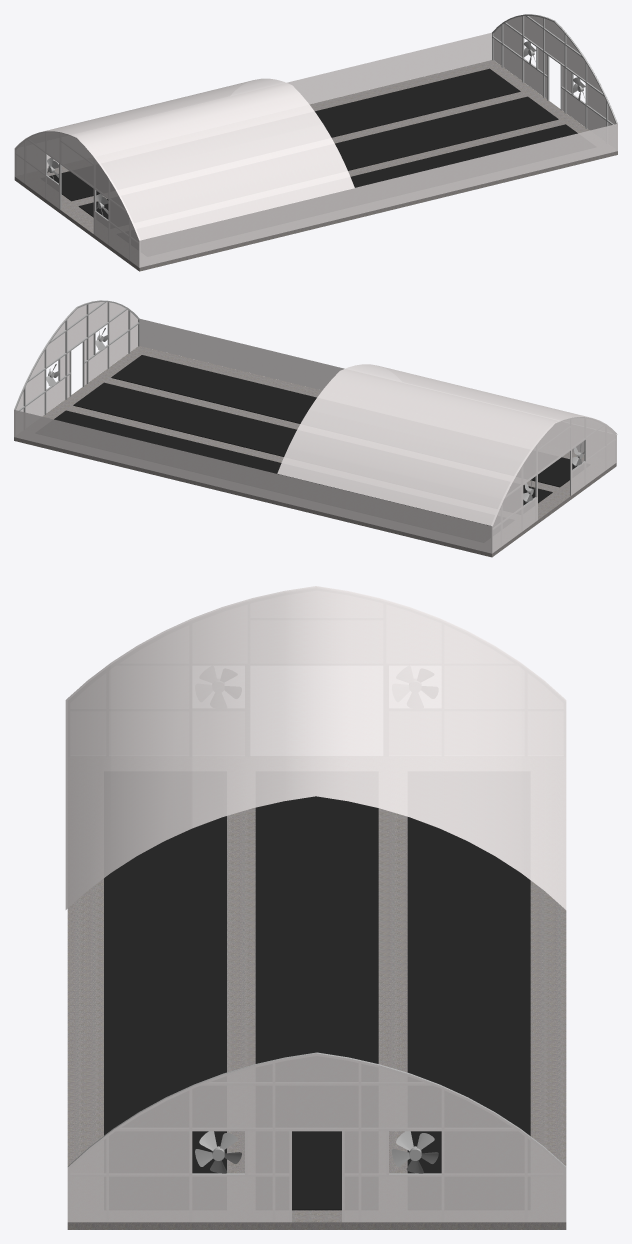
Rendered from greenhouse.dae.
3 renders of one model, top to bottom at view 1: azimuth 30°, elevation 25°; view 2: azimuth 150°, elevation 25°; view 3: azimuth 270°, elevation 25°, orthographic. The views are drawn at different scales.
Visible parts, largest first — view 1: group_2, group_6, black_rubber_floor_pad (×22), group_3, gh_half_arch_entry_door_front (×2); view 2: group_2, group_6, black_rubber_floor_pad (×22), group_3, gh_half_arch_entry_door_front (×2); view 3: group_6, black_rubber_floor_pad (×35), group_2, group_3.
Part boxes in pixels (box(x1,y1,x2,y2)): group_2: box(14, 14, 617, 267); group_6: box(14, 78, 354, 240); black_rubber_floor_pad (×22): box(49, 68, 577, 201); group_3: box(14, 60, 617, 271); gh_half_arch_entry_door_front (×2): box(492, 14, 617, 128); group_2: box(14, 300, 616, 553); group_6: box(277, 364, 617, 526); black_rubber_floor_pad (×22): box(54, 355, 576, 487); group_3: box(14, 346, 616, 557); gh_half_arch_entry_door_front (×2): box(14, 300, 139, 414); group_6: box(65, 586, 566, 909); black_rubber_floor_pad (×35): box(104, 798, 530, 1210); group_2: box(67, 1053, 566, 1222); group_3: box(67, 807, 566, 1229).
Bounding box in the file's own units: 797 × 358 × 140.
Materials: 4 (2 with a texture image).
